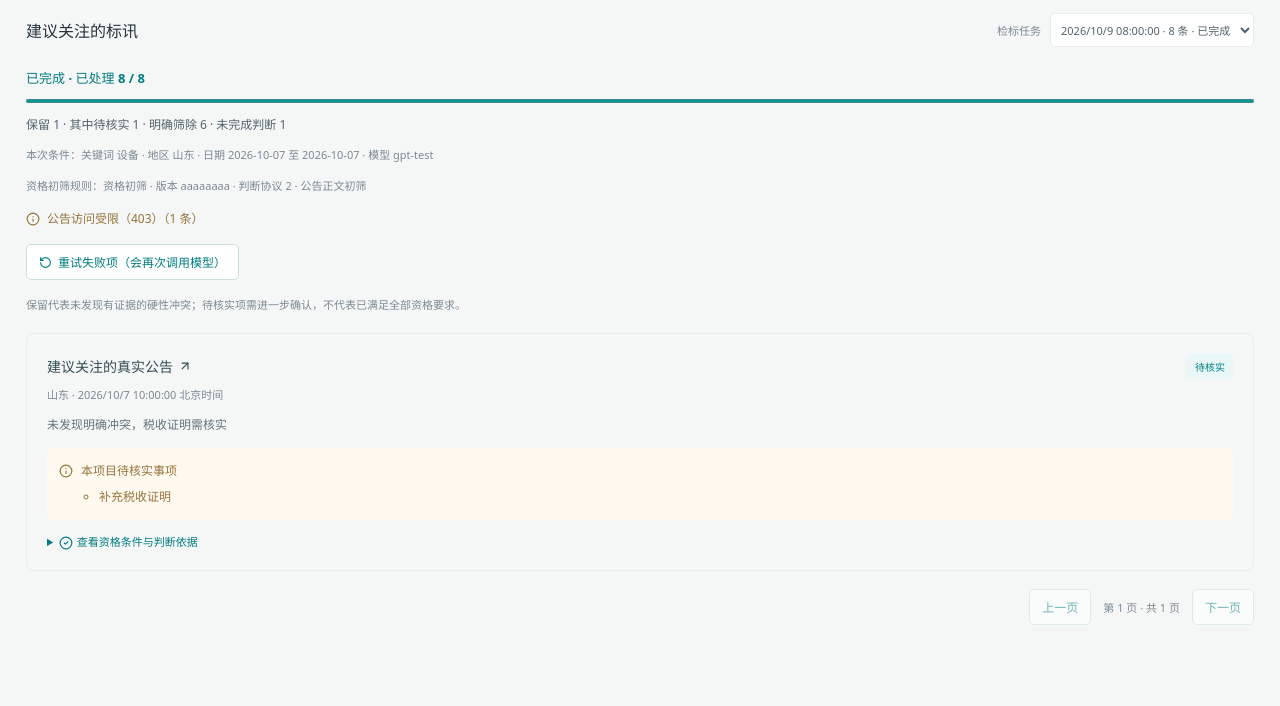
Test case: shows frozen screening rules, alternative groups, source gaps and separate evidence citations
The width and height of the screenshot is (1280, 706).
Expected: the text "资格初筛规则：资格初筛" shows "判断协议 2", [26,178,366,193]
Step 1. Click the heading "查看资格条件与判断依据" → click(128, 542), box [59,534,198,550]
(page scrolled)
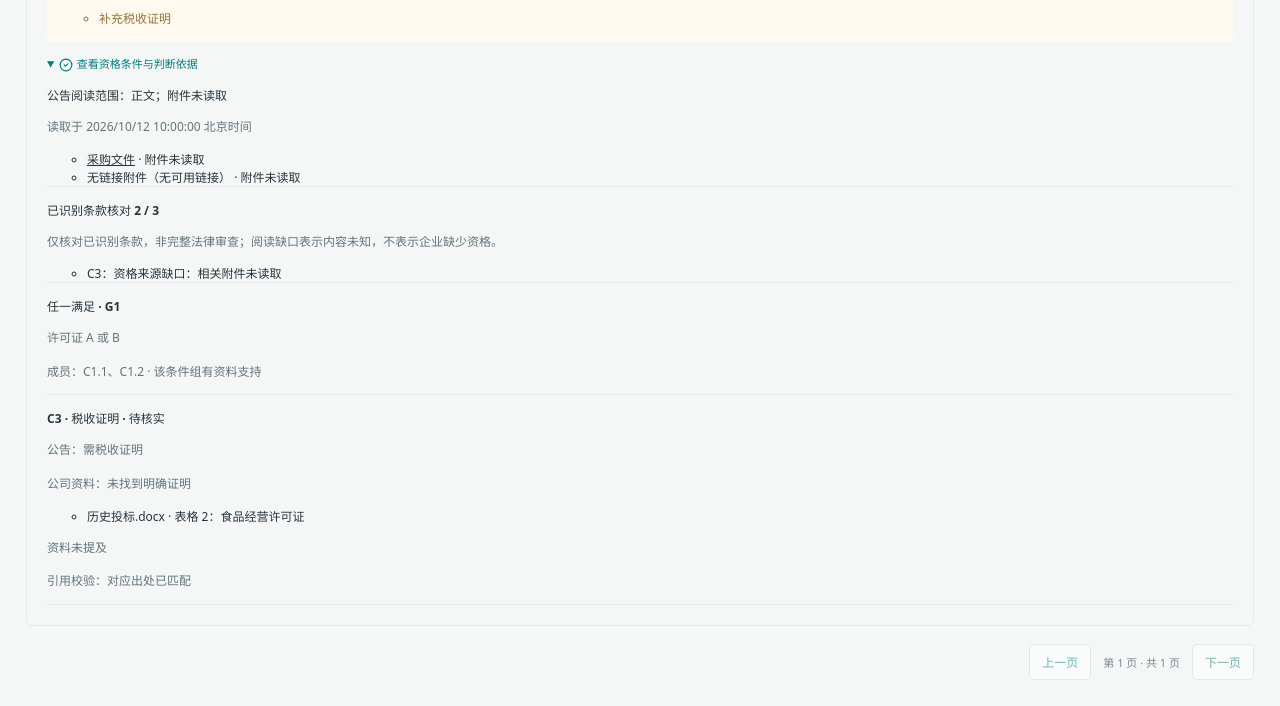
Result: the text "已识别条款核对 2 / 3" is shown at [47,202,159,219]
Result: the text "任一满足 · G1" is shown at [47,298,120,315]
Result: the text "无链接附件（无可用链接）" is shown at [87,169,231,186]
